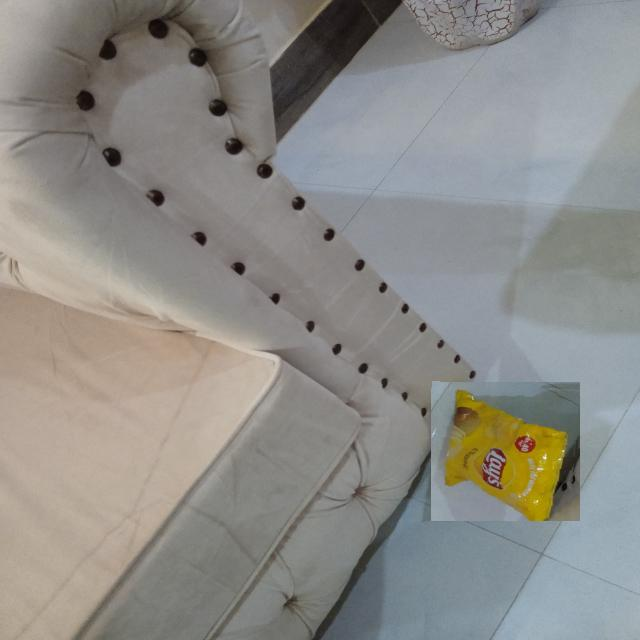Plastic: (431, 382, 580, 522)
